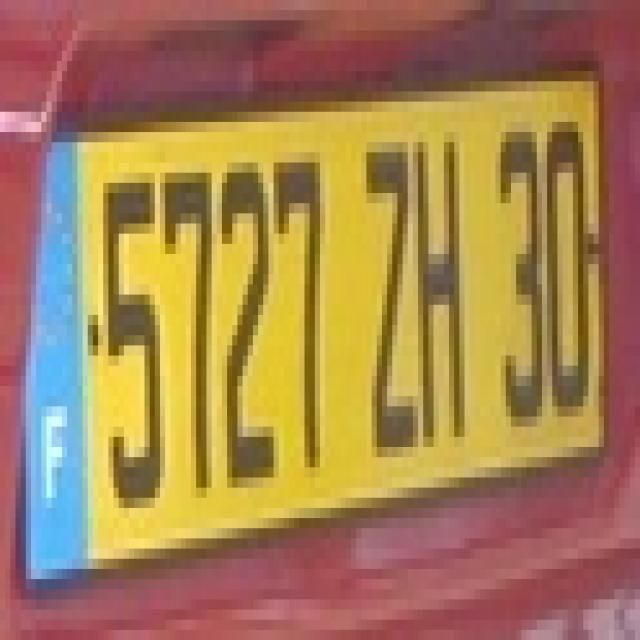licenseplate: (3, 59, 616, 594)
